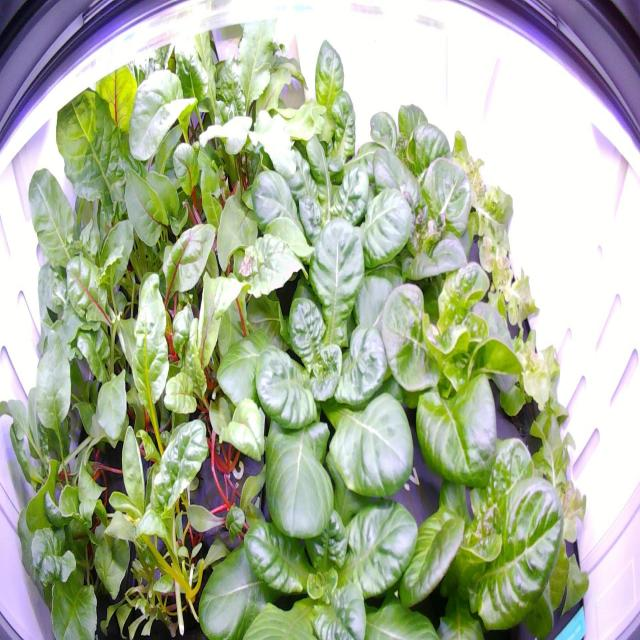young: (200, 210, 442, 550), (180, 401, 454, 638), (365, 389, 580, 639), (370, 246, 532, 504), (230, 125, 416, 334), (245, 24, 398, 216), (357, 143, 491, 307), (344, 88, 479, 222)
